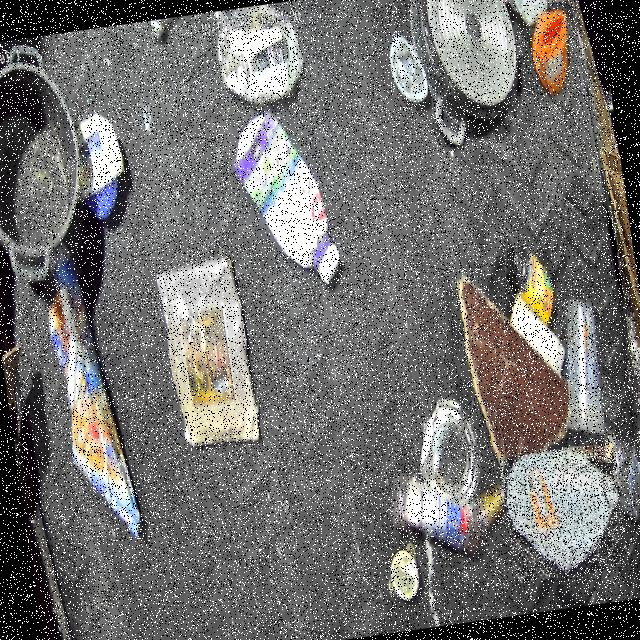milk-jug: (499, 442, 629, 584)
